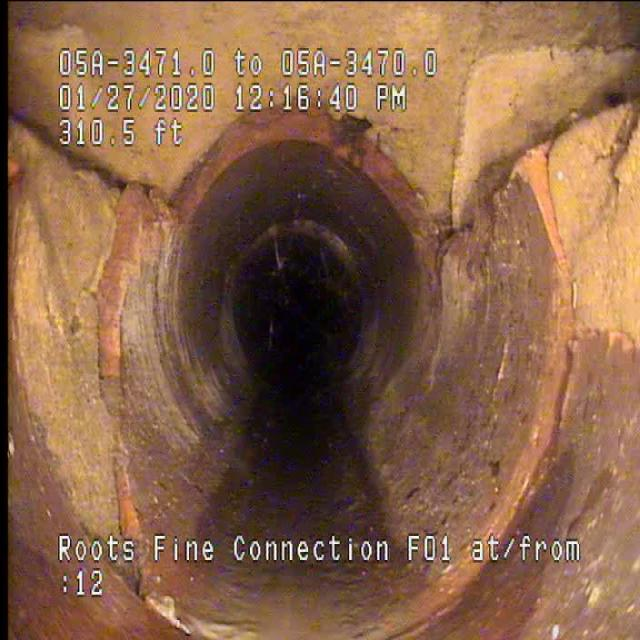Fracture: (13, 89, 154, 232), (445, 142, 581, 290)
